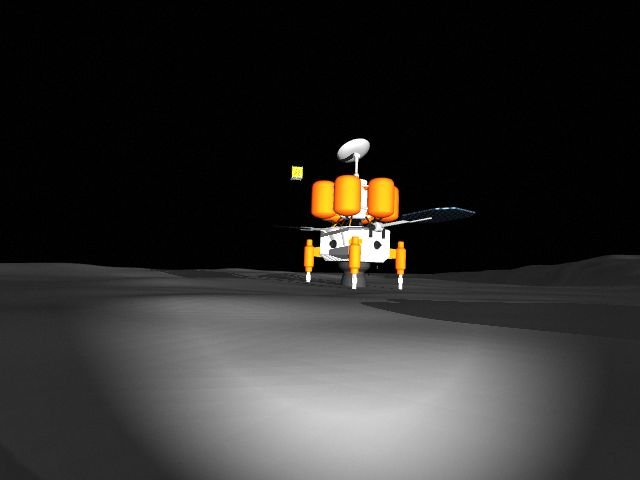cubesat: (285, 163, 306, 182)
